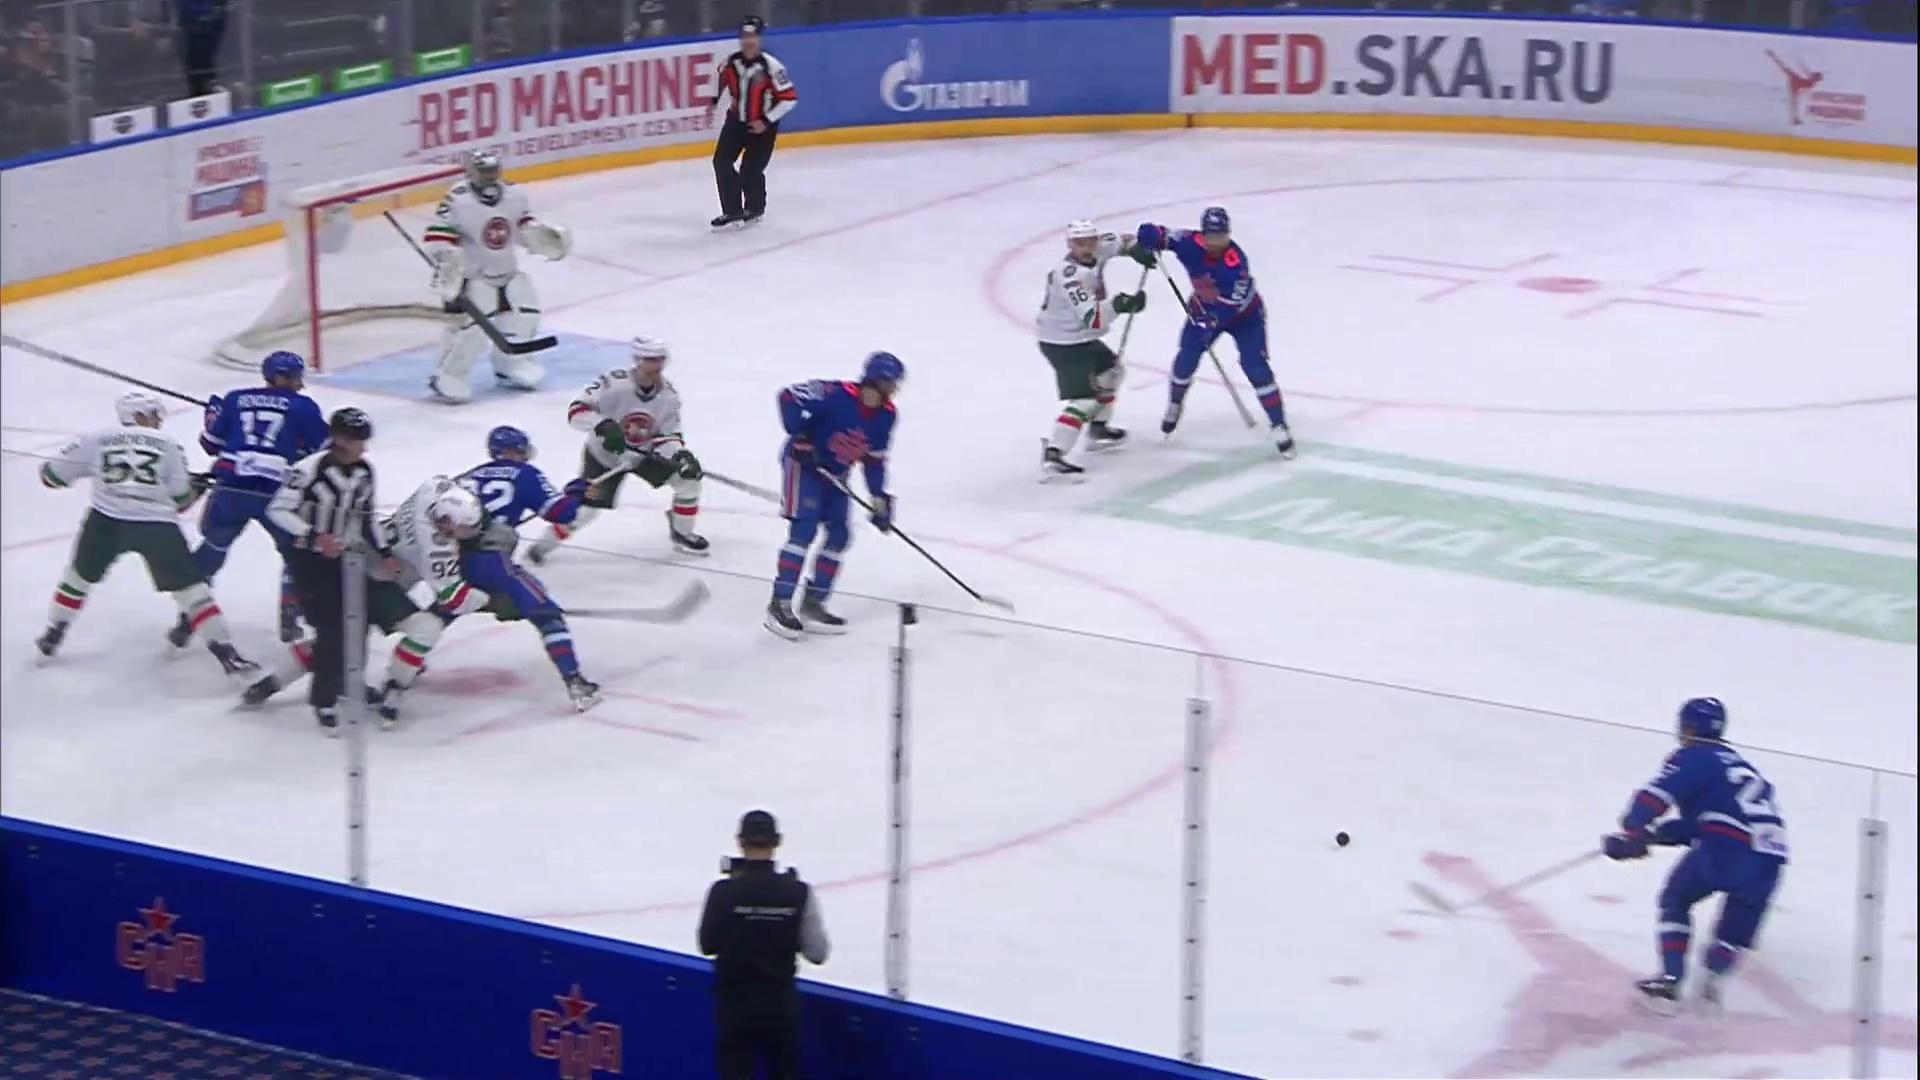ball: (1336, 832, 1349, 848)
